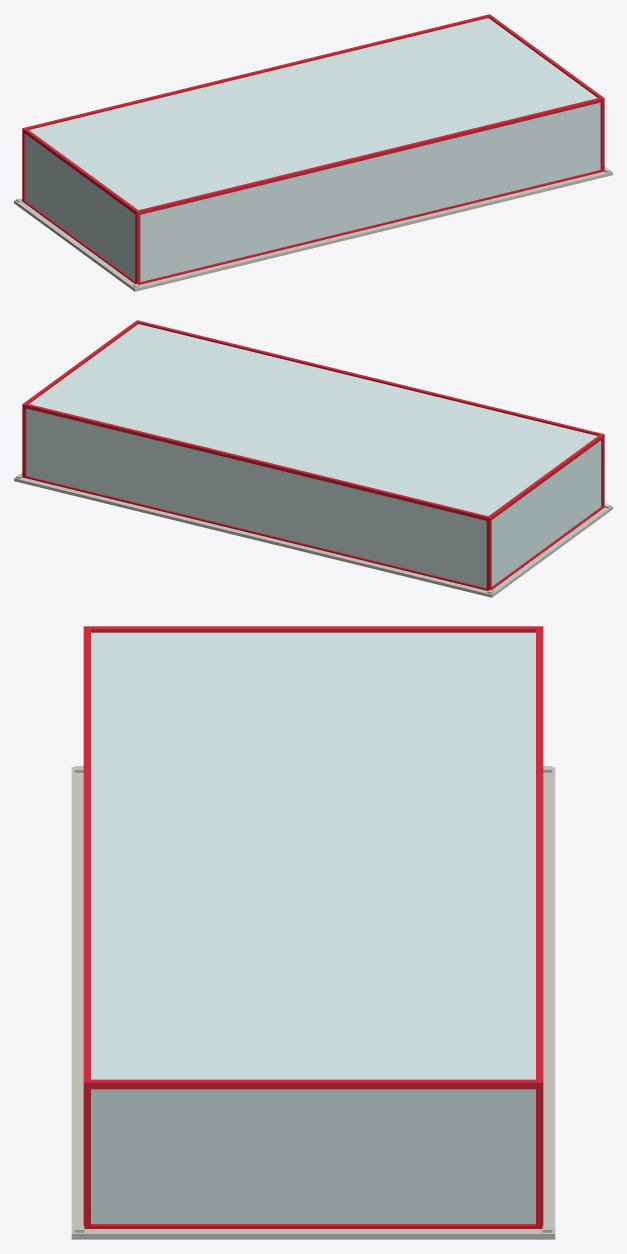
The model's file is concorde.glb.
3 views of the same model, one above another, from view 1: azimuth 30°, elevation 25°; view 2: azimuth 150°, elevation 25°; view 3: azimuth 270°, elevation 25° (orthographic). The views are drawn at different scales.
Size of the model in its own units: 1.05 by 0.1595 by 0.46.
